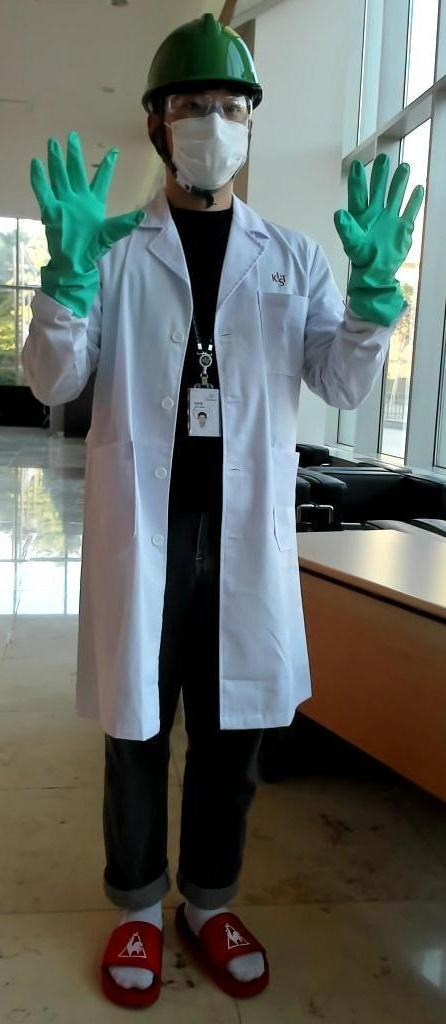lab_coat: (98, 250, 322, 738)
